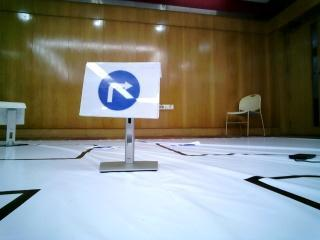right: (89, 62, 152, 116)
